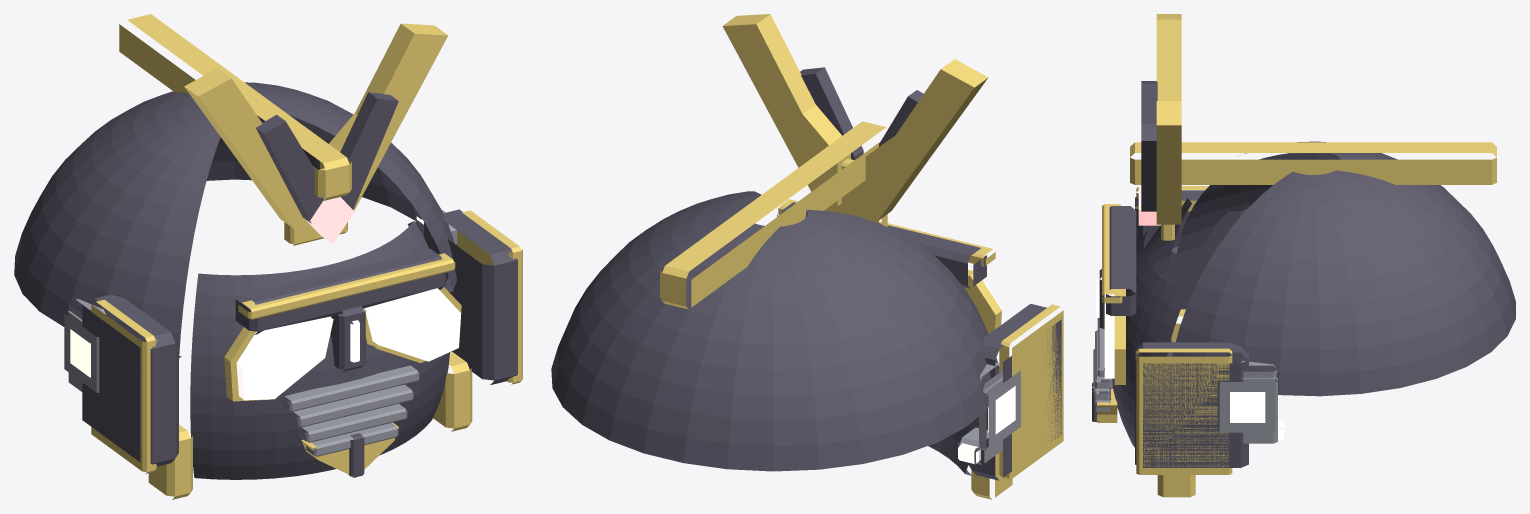
Rendered from solar_helmet.glb.
The picture shows the model from 3 angles, left to right: view 1: azimuth 30°, elevation 25°; view 2: azimuth 150°, elevation 25°; view 3: azimuth 270°, elevation 25°; orthographic projection. The views are drawn at different scales.
Visible parts, largest first — view 1: Helmet_Crest, Helmet_Faceplate, Helmet_Cheeks; view 2: Helmet_Crest, Helmet_Cheeks, Helmet_Faceplate; view 3: Helmet_Crest, Helmet_Cheeks, Helmet_Faceplate.
Boxes of the visible parts, x1,y1,x2,y2 form: Helmet_Crest: [14, 14, 456, 358]; Helmet_Faceplate: [190, 221, 461, 479]; Helmet_Cheeks: [64, 209, 522, 499]; Helmet_Crest: [551, 14, 999, 471]; Helmet_Cheeks: [958, 303, 1063, 499]; Helmet_Faceplate: [777, 199, 1001, 475]; Helmet_Crest: [1130, 14, 1515, 396]; Helmet_Cheeks: [1135, 186, 1284, 497]; Helmet_Faceplate: [1092, 198, 1191, 447].
Bounding box in the file's own units: 16.07 × 16.3 × 16.74.
